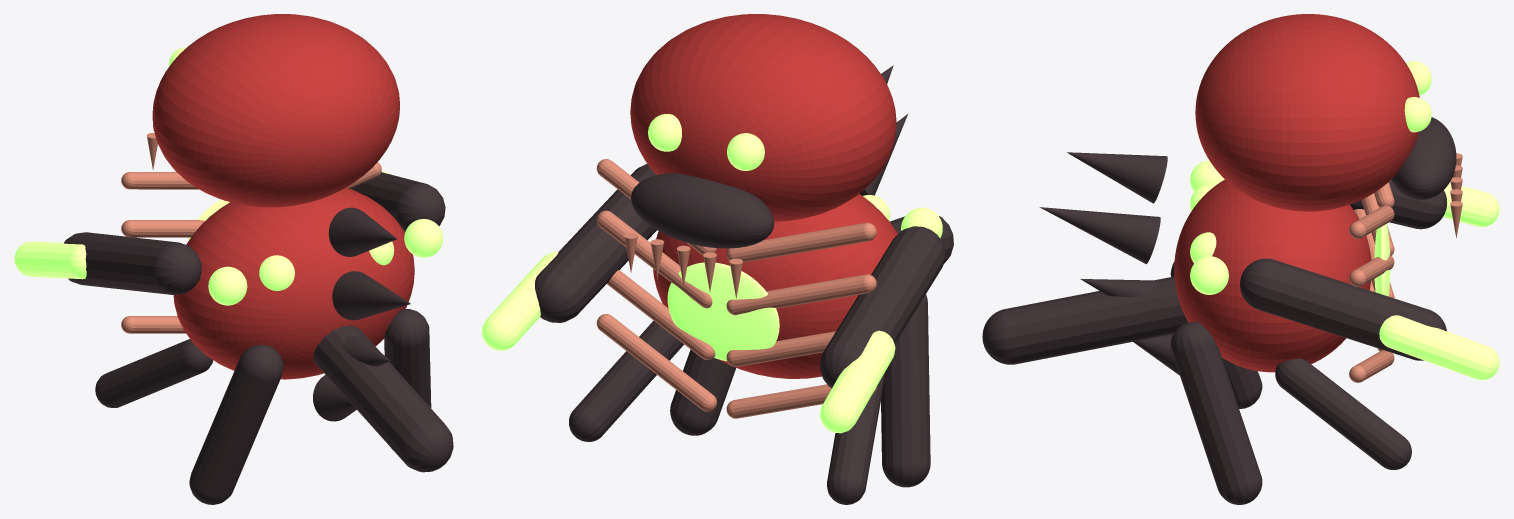
Rendered from alien_threat.glb.
3 views of the same model, side by side, from view 1: azimuth 30°, elevation 25°; view 2: azimuth 150°, elevation 25°; view 3: azimuth 270°, elevation 25° (orthographic). The views are drawn at different scales.
Visible parts, largest first — view 1: AlienCranium, AlienRibBody, TailStub, LeftHindLeg, LeftClawUpper, LeftFrontLeg, RightHindLeg, RightClawUpper, SpinePlate1, LeftClawTip, SpinePlate0, AlienRibLeft1 (+7 smaller); view 2: AlienCranium, AlienRibBody, LeftClawUpper, AlienMaw, LeftHindLeg, RightClawUpper, AlienBellyGlow, RightFrontLeg, LeftClawTip, LeftFrontLeg, RightHindLeg, RightClawTip (+11 smaller); view 3: AlienCranium, AlienRibBody, TailStub, RightClawUpper, RightHindLeg, RightFrontLeg, RightClawTip, AlienMaw, SpinePlate1, SpinePlate0, LeftClawUpper, LeftClawTip (+11 smaller).
Boxes of the visible parts, x1,y1,x2,y2 form: AlienCranium: (152,14,399,207); AlienRibBody: (173,188,414,379); TailStub: (313,325,453,472); LeftHindLeg: (189,344,283,504); LeftClawUpper: (64,232,201,294); LeftFrontLeg: (95,339,213,407); RightHindLeg: (384,309,431,449); RightClawUpper: (350,172,445,232); SpinePlate1: (332,271,410,320); LeftClawTip: (14,241,86,279); SpinePlate0: (328,207,396,256); AlienRibLeft1: (121,220,204,237); AlienCranium: (630,14,896,221); AlienRibBody: (653,194,897,378); LeftClawUpper: (820,226,945,388); AlienMaw: (631,173,774,248); LeftHindLeg: (881,294,930,487); RightClawUpper: (535,164,656,322); AlienBellyGlow: (667,262,779,361); RightFrontLeg: (569,320,683,441); LeftClawTip: (820,330,895,433); LeftFrontLeg: (827,371,885,504); RightHindLeg: (670,349,735,435); RightClawTip: (482,252,558,350); AlienCranium: (1195,14,1419,211); AlienRibBody: (1174,179,1371,372); TailStub: (982,276,1188,364); RightClawUpper: (1240,258,1446,360); RightHindLeg: (1170,322,1262,504); RightFrontLeg: (1275,358,1411,469); RightClawTip: (1379,315,1499,380); AlienMaw: (1391,117,1456,199); SpinePlate1: (1039,207,1160,264); SpinePlate0: (1067,152,1167,203); LeftClawUpper: (1350,180,1446,229); LeftClawTip: (1443,182,1499,226).
Bounding box in the file's own units: 1.13 × 1.33 × 1.47.
